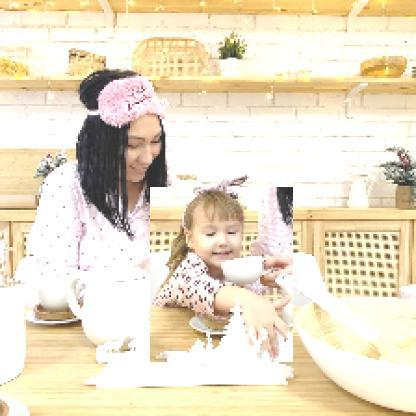child: (151, 188, 296, 364)
